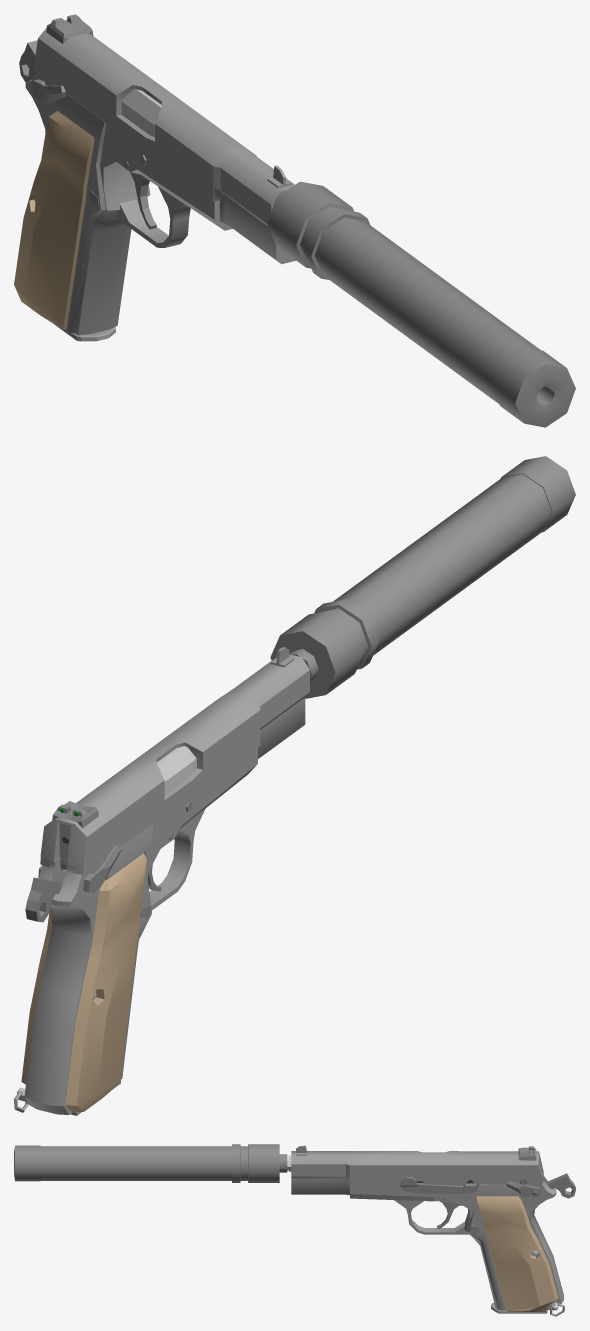
Rendered from Hi-Power.fbx.
3 renders of one model, top to bottom at view 1: azimuth 30°, elevation 25°; view 2: azimuth 150°, elevation 25°; view 3: azimuth 270°, elevation 25°, orthographic. The views are drawn at different scales.
Parts seen in each view (by area): view 1: Muzzel_2_Suppessor, Slide_1_Standard, Receiver_1_Semi, Grip_3_Thick_Wood, Trigger Guard, Barrel_1_Standard, Sight_3_Rear, Trigger_1, Safety_R_1, Hammer_1; view 2: Muzzel_2_Suppessor, Slide_1_Standard, Receiver_1_Semi, Grip_3_Thick_Wood, Trigger Guard, Hammer_1, Barrel_1_Standard; view 3: Muzzel_2_Suppessor, Slide_1_Standard, Grip_3_Thick_Wood, Receiver_1_Semi, Slide_Stop, Trigger Guard, Hammer_1, Safety_design_3, Sight_3_Rear, Trigger_1.
Part boxes in pixels (x1,y1,x2,y2): Muzzel_2_Suppessor: (267,181,575,427); Slide_1_Standard: (34,19,295,264); Receiver_1_Semi: (25,72,232,335); Grip_3_Thick_Wood: (14,111,94,329); Trigger Guard: (115,186,190,247); Barrel_1_Standard: (121,89,161,136); Sight_3_Rear: (46,14,93,43); Trigger_1: (124,161,156,229); Safety_R_1: (32,79,65,102); Hammer_1: (19,40,37,82); Muzzel_2_Suppessor: (270,456,575,698); Slide_1_Standard: (40,654,309,874); Receiver_1_Semi: (24,747,257,1114); Grip_3_Thick_Wood: (21,853,146,1112); Trigger Guard: (149,809,205,910); Hammer_1: (25,869,66,922); Barrel_1_Standard: (157,746,196,794); Muzzel_2_Suppessor: (14,1144,287,1182); Slide_1_Standard: (291,1151,543,1195); Grip_3_Thick_Wood: (476,1196,558,1311); Receiver_1_Semi: (350,1173,563,1310); Slide_Stop: (400,1177,476,1193); Trigger Guard: (394,1200,468,1234); Hammer_1: (546,1173,575,1198); Safety_design_3: (506,1180,540,1197); Sight_3_Rear: (518,1146,536,1160); Trigger_1: (437,1197,462,1228).
Bounding box in the file's own units: 3.23 × 13.64 × 42.17.
